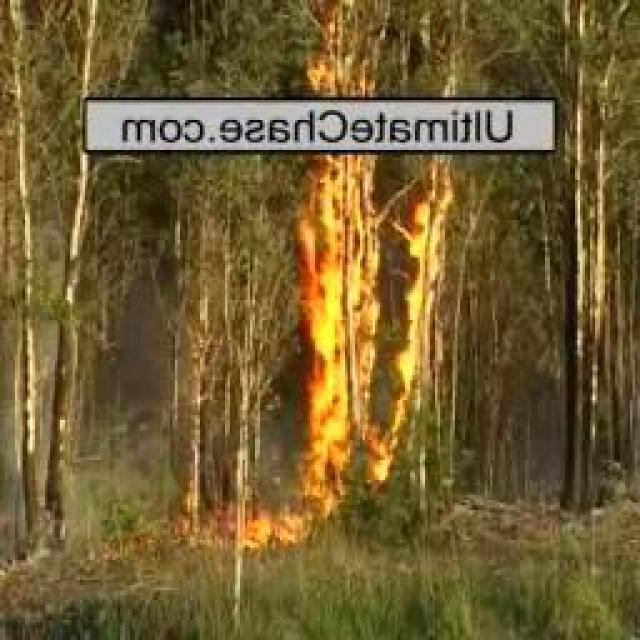Fire: (273, 158, 453, 498), (307, 7, 376, 105), (239, 512, 316, 542)
